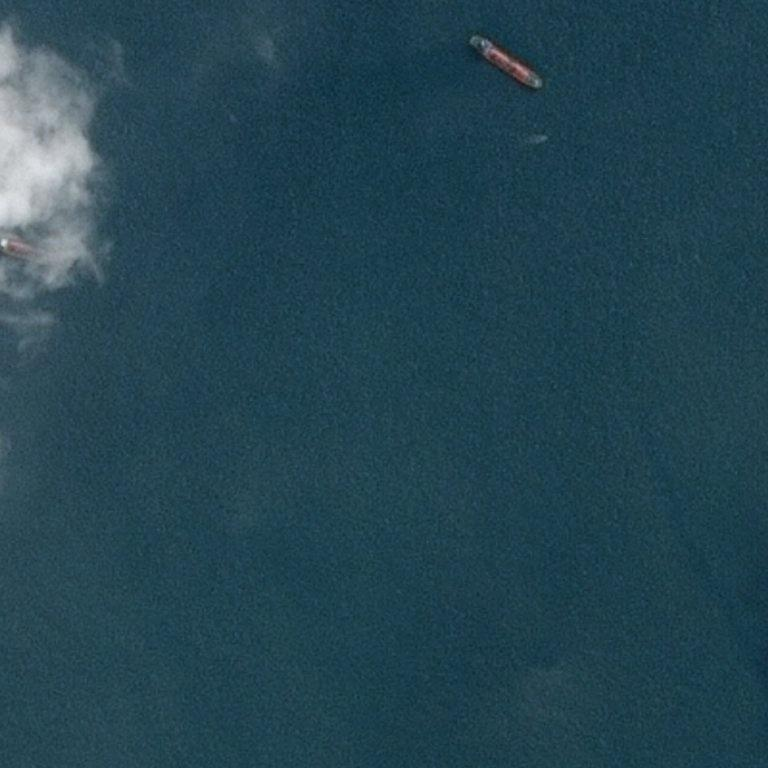ship: (503, 24, 509, 99), (539, 83, 544, 87), (472, 32, 477, 36), (468, 41, 472, 45)
